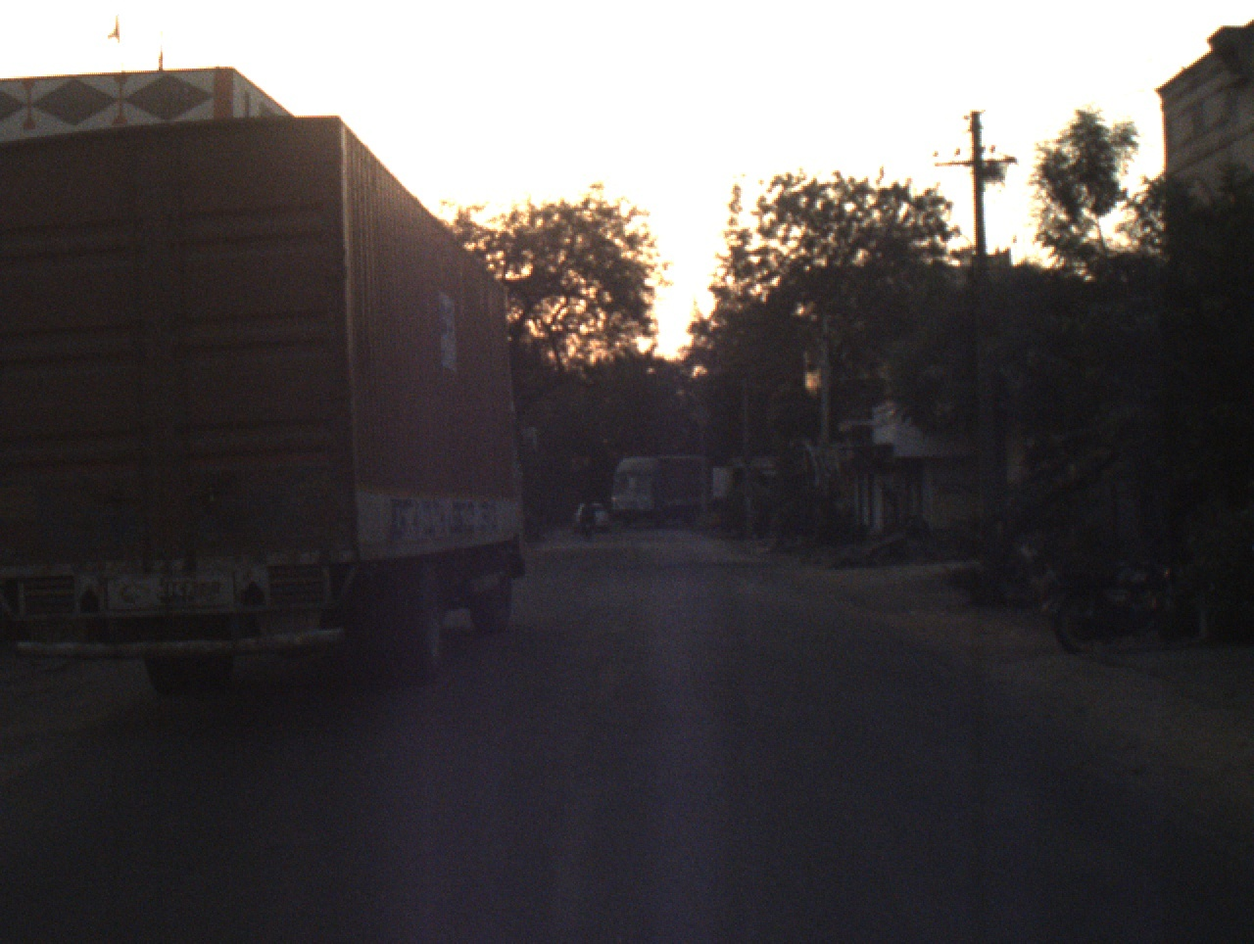car: (576, 497, 608, 532)
motorcycle: (1040, 547, 1194, 652), (580, 517, 592, 534)
rider: (578, 501, 596, 523)
truck: (1, 114, 528, 695), (612, 448, 710, 523)
